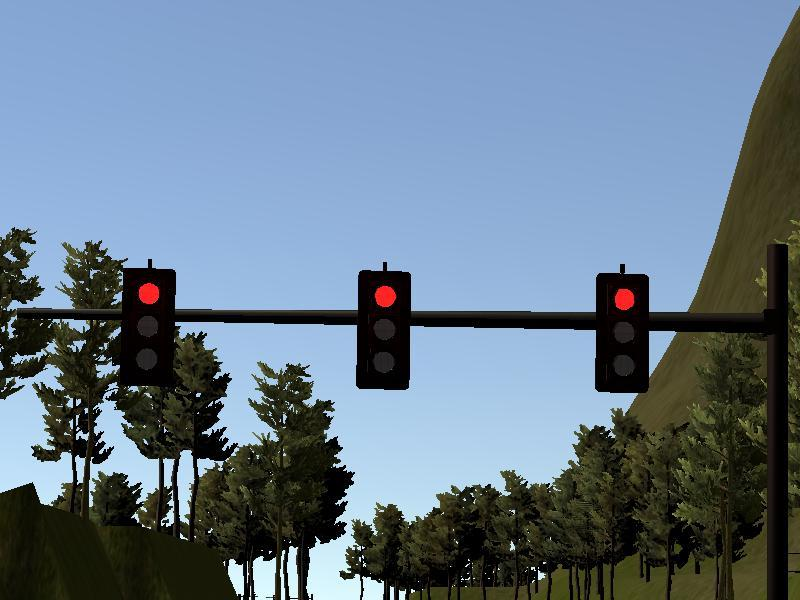Red: (598, 275, 649, 392), (359, 271, 409, 387), (124, 268, 171, 382)
